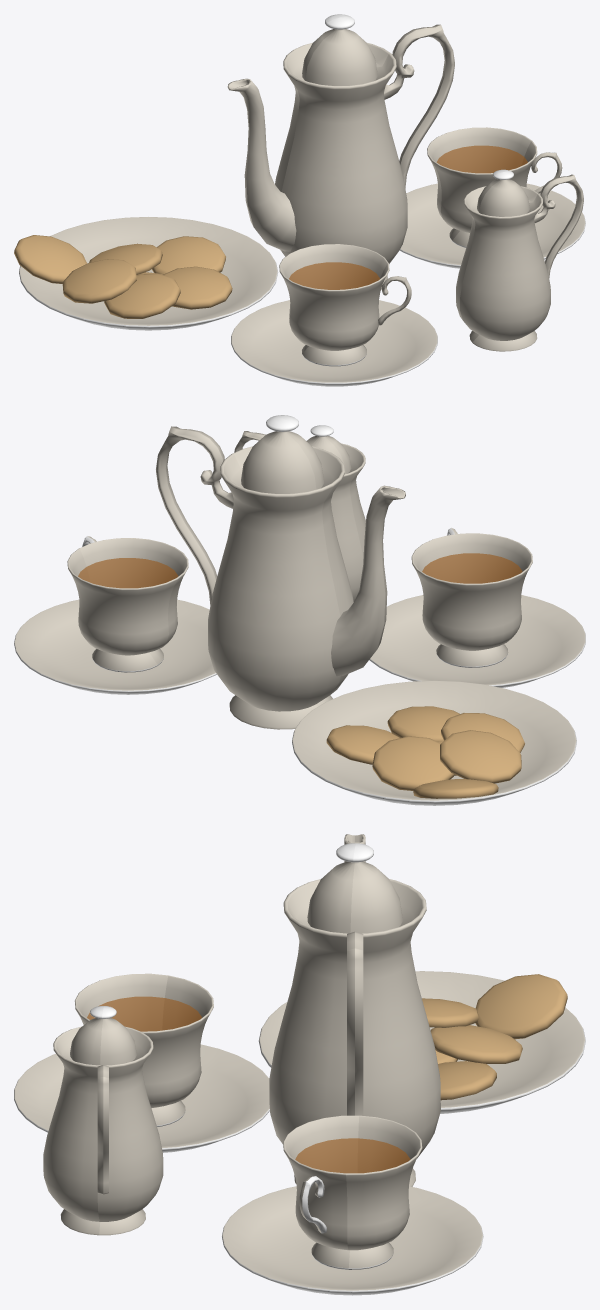
Rendered from Tea+set.obj.
3 views of the same model, one above another, from view 1: azimuth 30°, elevation 25°; view 2: azimuth 150°, elevation 25°; view 3: azimuth 270°, elevation 25° (orthographic). The views are drawn at different scales.
Parts seen in each view (by area): view 1: Mesh48 Component_11_1 Component_16_1 tea_pot_06_1 Model, Mesh101 Group7 tea_cookie_06_1 Model, Mesh97 Component_11_3 Component_16_2 tea_creamer_06_1 Model, Mesh3 Group3 tea_cup_06_1 Model, Mesh41 Component_9_1 Component_15_1 tea_cup_06_1 Model, Mesh54 Group6 tea_cup_06_2 Model, Mesh44 Component_14_1 tea_pot_06_1 Model, Mesh93 Component_9_4 Component_15_2 tea_cup_06_2 Model, Mesh42 Component_9_2 Component_15_1 tea_cup_06_1 Model, Mesh49 Component_10_1 Component_16_1 tea_pot_06_1 Model, Mesh92 Component_9_3 Component_15_2 tea_cup_06_2 Model, Mesh45 Component_13_1 tea_pot_06_1 Model (+16 smaller); view 2: Mesh50 Component_11_2 Component_16_1 tea_pot_06_1 Model, Mesh101 Group7 tea_cookie_06_1 Model, Mesh3 Group3 tea_cup_06_1 Model, Mesh54 Group6 tea_cup_06_2 Model, Mesh93 Component_9_4 Component_15_2 tea_cup_06_2 Model, Mesh42 Component_9_2 Component_15_1 tea_cup_06_1 Model, Mesh46 Component_14_2 tea_pot_06_1 Model, Mesh41 Component_9_1 Component_15_1 tea_cup_06_1 Model, Mesh92 Component_9_3 Component_15_2 tea_cup_06_2 Model, Mesh51 Component_10_2 Component_16_1 tea_pot_06_1 Model, Mesh142 Component_17_5 tea_cookie_06_1 Model, Mesh139 Component_17_2 tea_cookie_06_1 Model (+15 smaller); view 3: Mesh54 Group6 tea_cup_06_2 Model, Mesh50 Component_11_2 Component_16_1 tea_pot_06_1 Model, Mesh48 Component_11_1 Component_16_1 tea_pot_06_1 Model, Mesh3 Group3 tea_cup_06_1 Model, Mesh99 Component_11_4 Component_16_2 tea_creamer_06_1 Model, Mesh93 Component_9_4 Component_15_2 tea_cup_06_2 Model, Mesh97 Component_11_3 Component_16_2 tea_creamer_06_1 Model, Mesh101 Group7 tea_cookie_06_1 Model, Mesh92 Component_9_3 Component_15_2 tea_cup_06_2 Model, Mesh42 Component_9_2 Component_15_1 tea_cup_06_1 Model, Mesh143 Component_17_6 tea_cookie_06_1 Model, Mesh41 Component_9_1 Component_15_1 tea_cup_06_1 Model (+15 smaller).
Part boxes in pixels (x1,y1,x2,y2): Mesh48 Component_11_1 Component_16_1 tea_pot_06_1 Model: (281,53,407,289); Mesh101 Group7 tea_cookie_06_1 Model: (19,217,277,325); Mesh97 Component_11_3 Component_16_2 tea_creamer_06_1 Model: (460,194,550,351); Mesh3 Group3 tea_cup_06_1 Model: (231,300,437,382); Mesh41 Component_9_1 Component_15_1 tea_cup_06_1 Model: (280,263,389,366); Mesh54 Group6 tea_cup_06_2 Model: (400,183,585,265); Mesh44 Component_14_1 tea_pot_06_1 Model: (229,79,296,251); Mesh93 Component_9_4 Component_15_2 tea_cup_06_2 Model: (427,127,531,241); Mesh42 Component_9_2 Component_15_1 tea_cup_06_1 Model: (279,244,388,353); Mesh49 Component_10_1 Component_16_1 tea_pot_06_1 Model: (305,17,377,85); Mesh92 Component_9_3 Component_15_2 tea_cup_06_2 Model: (432,141,537,247); Mesh45 Component_13_1 tea_pot_06_1 Model: (384,25,454,188); Mesh50 Component_11_2 Component_16_1 tea_pot_06_1 Model: (208,453,340,729); Mesh101 Group7 tea_cookie_06_1 Model: (292,680,576,800); Mesh3 Group3 tea_cup_06_1 Model: (370,595,585,685); Mesh54 Group6 tea_cup_06_2 Model: (14,599,215,690); Mesh93 Component_9_4 Component_15_2 tea_cup_06_2 Model: (67,548,177,672); Mesh42 Component_9_2 Component_15_1 tea_cup_06_1 Model: (411,539,510,667); Mesh46 Component_14_2 tea_pot_06_1 Model: (331,487,404,676); Mesh41 Component_9_1 Component_15_1 tea_cup_06_1 Model: (434,533,532,664); Mesh92 Component_9_3 Component_15_2 tea_cup_06_2 Model: (79,538,188,665); Mesh51 Component_10_2 Component_16_1 tea_pot_06_1 Model: (241,417,316,493); Mesh142 Component_17_5 tea_cookie_06_1 Model: (440,730,521,783); Mesh139 Component_17_2 tea_cookie_06_1 Model: (372,736,454,790); Mesh54 Group6 tea_cup_06_2 Model: (222,1186,482,1290); Mesh50 Component_11_2 Component_16_1 tea_pot_06_1 Model: (362,879,440,1186); Mesh48 Component_11_1 Component_16_1 tea_pot_06_1 Model: (269,879,347,1183); Mesh3 Group3 tea_cup_06_1 Model: (14,1044,269,1148); Mesh99 Component_11_4 Component_16_2 tea_creamer_06_1 Model: (97,1026,163,1235); Mesh93 Component_9_4 Component_15_2 tea_cup_06_2 Model: (346,1115,422,1269); Mesh97 Component_11_3 Component_16_2 tea_creamer_06_1 Model: (43,1026,100,1235); Mesh101 Group7 tea_cookie_06_1 Model: (259,971,584,1107); Mesh92 Component_9_3 Component_15_2 tea_cup_06_2 Model: (283,1115,358,1269); Mesh42 Component_9_2 Component_15_1 tea_cup_06_1 Model: (141,975,213,1126); Mesh143 Component_17_6 tea_cookie_06_1 Model: (475,974,567,1039); Mesh41 Component_9_1 Component_15_1 tea_cup_06_1 Model: (74,973,168,1031).
Bounding box in the file's own units: 17.82 × 8.79 × 13.76.
